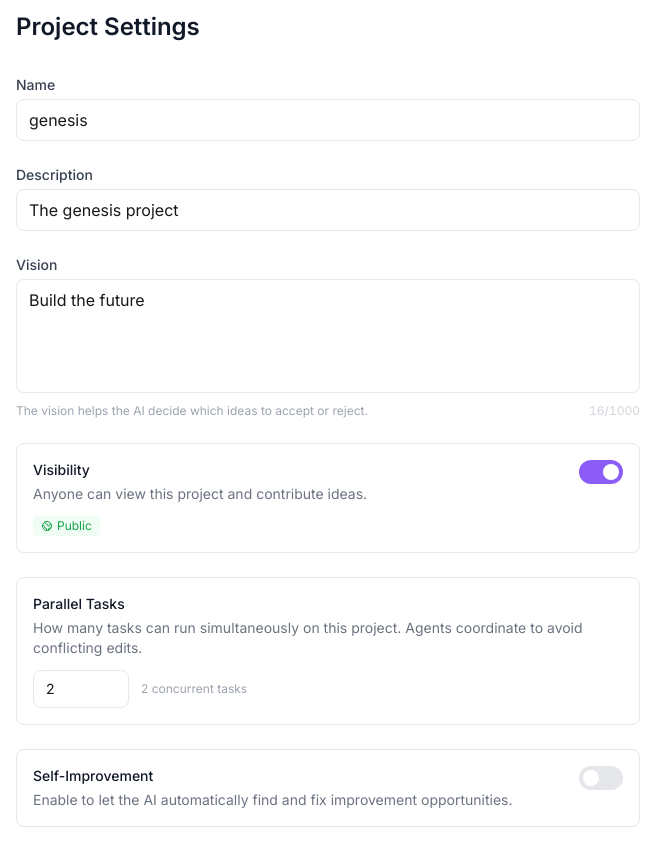
it: ProjectSettingsPage › auto-improve toggle › toggles auto-improve from off to on
Expected: the heading "Self-Improvement" is shown, x1=33 y1=767 x2=153 y2=784
# Find the toggle in the self-improvement section
Click the button without text in the row of "Self-Improvement" at point(601, 778), box x1=579 y1=766 x2=623 y2=790
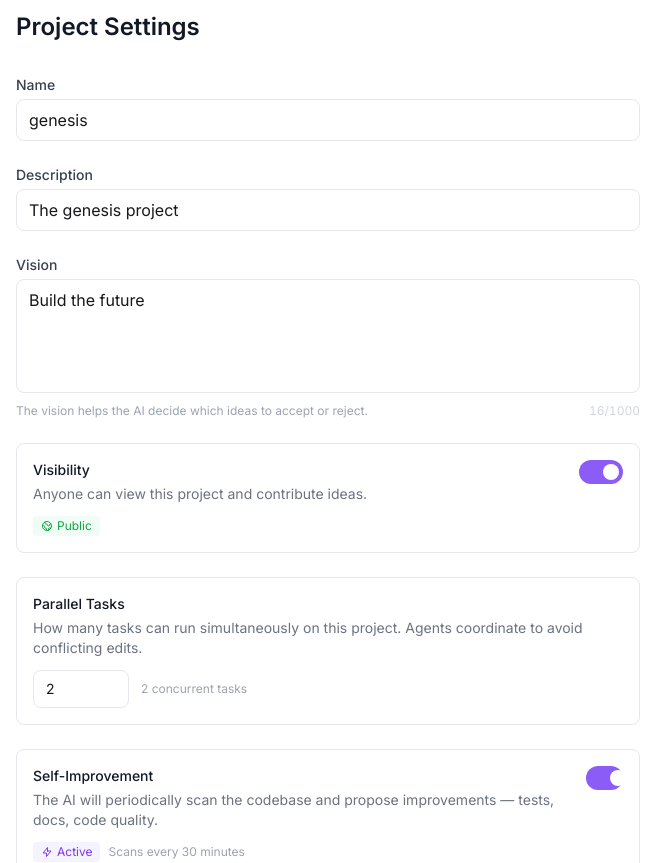
Expected: the text "Active" is shown, x1=33 y1=842 x2=100 y2=862
Expected: the text "Scans every 30 minutes" is shown, x1=108 y1=844 x2=245 y2=860
